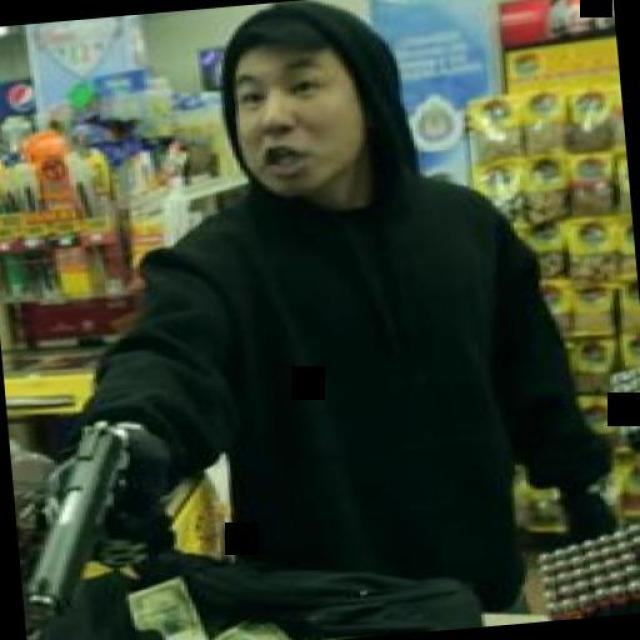gun: (7, 408, 195, 618)
